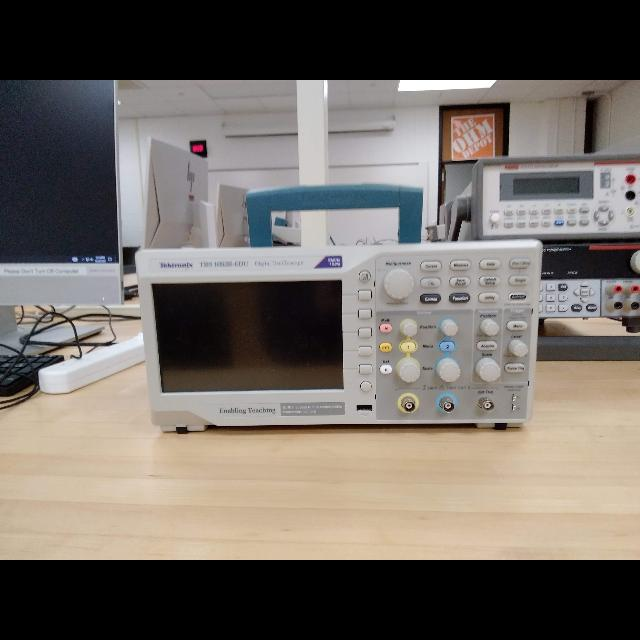Digital-Oscilloscope: (137, 242, 539, 428)
